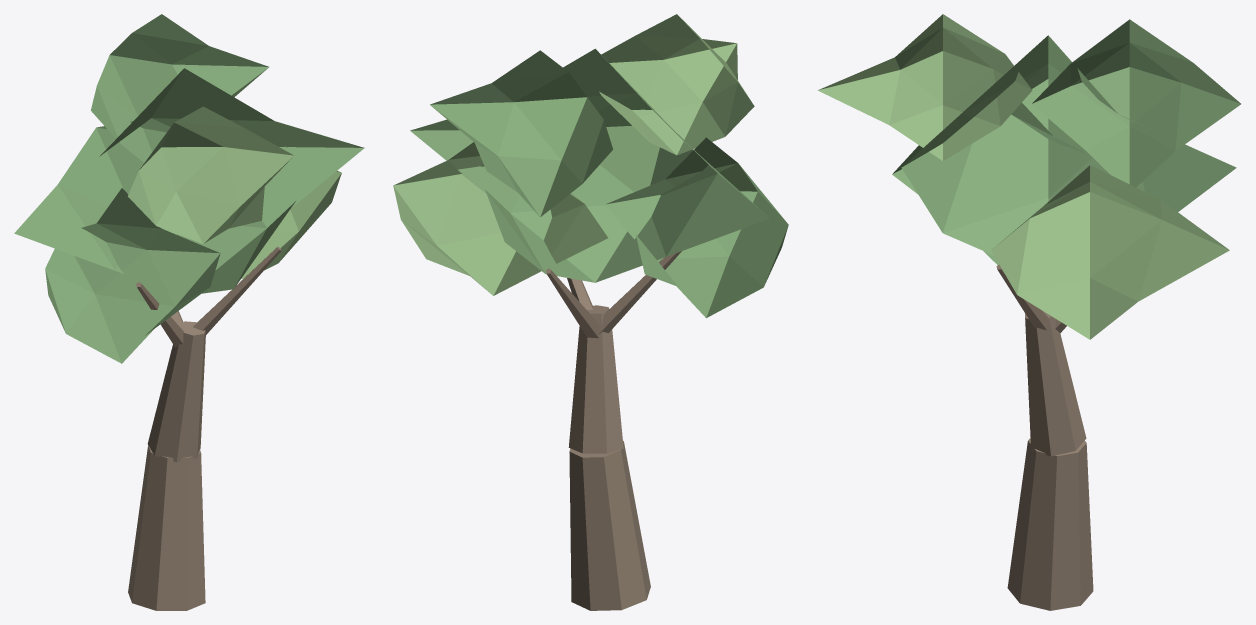
The model's file is tree_broadleaf.glb.
The picture shows the model from 3 angles, left to right: view 1: azimuth 30°, elevation 25°; view 2: azimuth 150°, elevation 25°; view 3: azimuth 270°, elevation 25°; orthographic projection. The views are drawn at different scales.
Visible parts, largest first — view 1: lod0; view 2: lod0; view 3: lod0.
Part boxes in pixels (<box>): lod0: <box>14,14,364,610</box>; lod0: <box>393,14,788,610</box>; lod0: <box>818,14,1240,610</box>.
Size of what is drawn, in the model's own units: 3.83 by 5.76 by 3.75.
